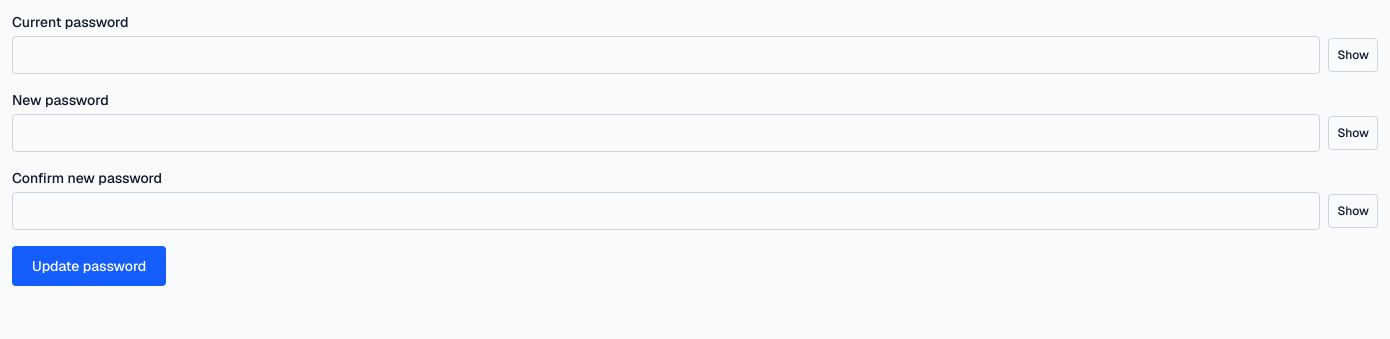
PasswordForm › submits POST /profile/password with the expected shape and shows a success message
In the password field labelled "Current password": (666, 55) x1=12 y1=36 x2=1320 y2=74, type "oldpass1"
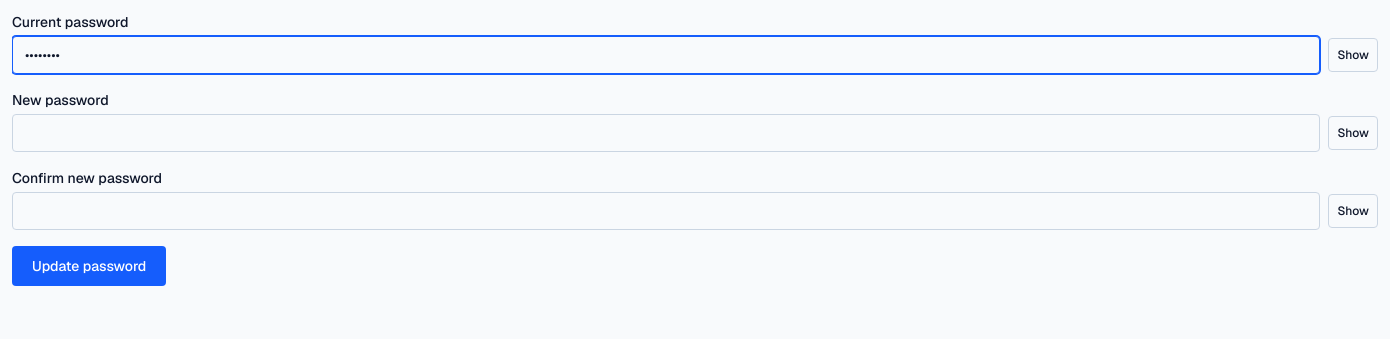
In the password field labelled "New password": (666, 133) x1=12 y1=114 x2=1320 y2=152, type "newpass123"
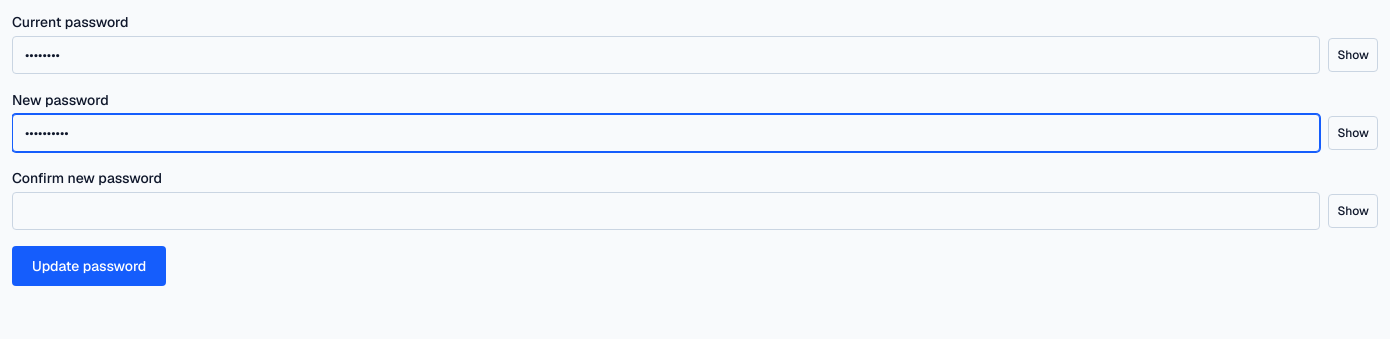
In the password field labelled "Confirm new password": (666, 211) x1=12 y1=192 x2=1320 y2=230, type "newpass123"
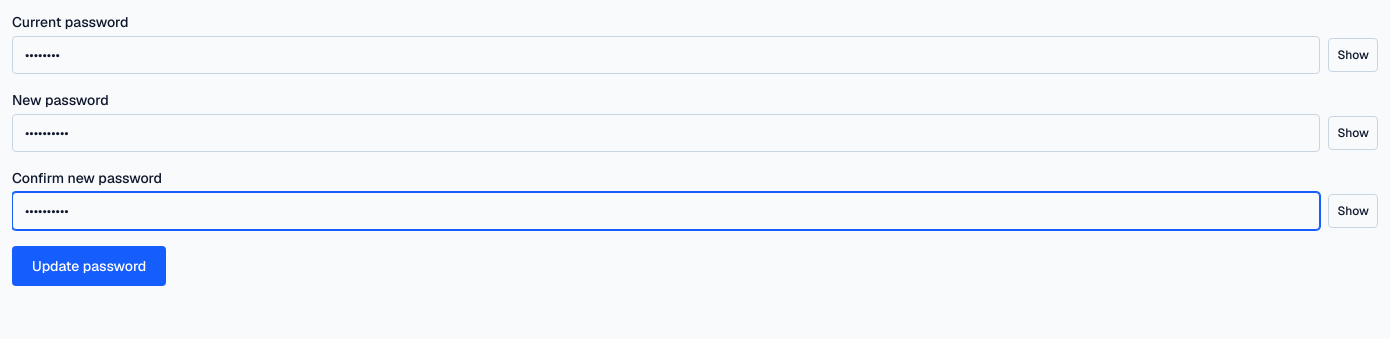
Click the button "Update password": (89, 266) x1=12 y1=246 x2=166 y2=286
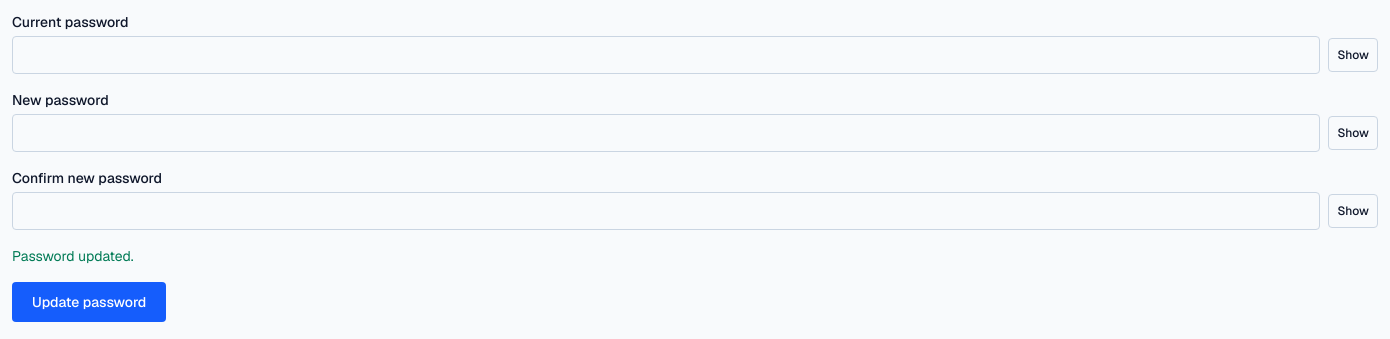
Check: the message shows "Password updated", box x1=12 y1=247 x2=134 y2=265
